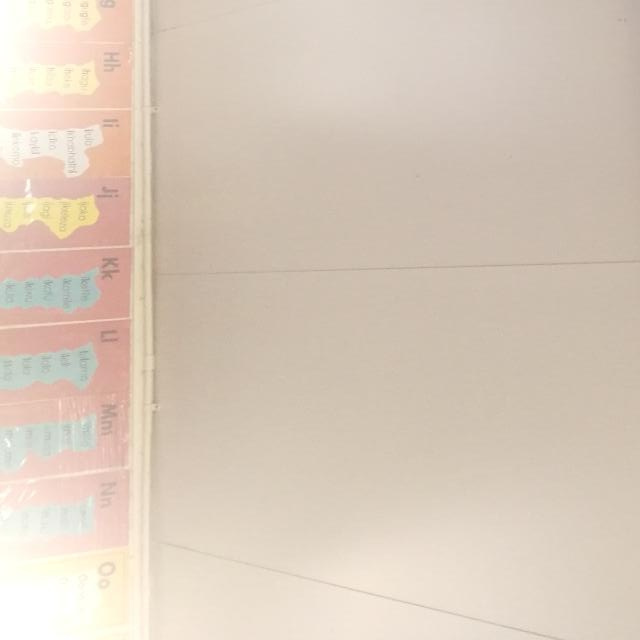fluorescent tube: (557, 0, 640, 418)
